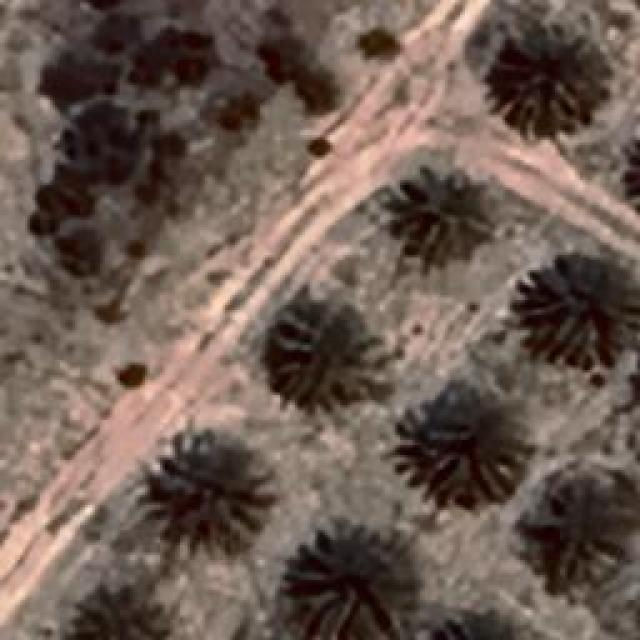PalmTree: (145, 440, 270, 558), (287, 522, 415, 636), (520, 255, 638, 368), (492, 20, 600, 130), (268, 302, 380, 408), (390, 162, 498, 268), (530, 477, 635, 585), (417, 410, 525, 500), (70, 580, 182, 635), (426, 607, 540, 640), (612, 128, 640, 221)
